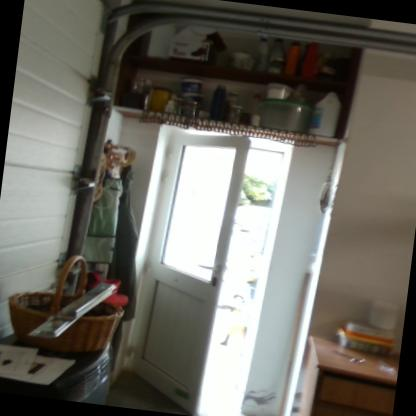semi: (118, 110, 316, 415)
